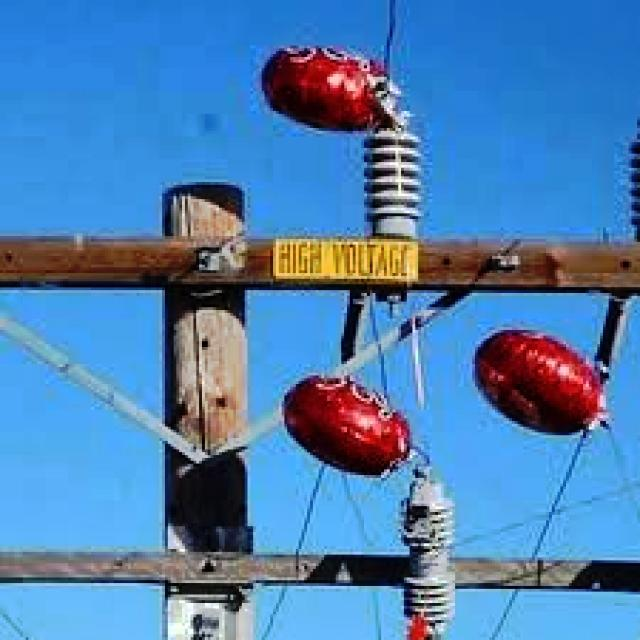obstruction: (472, 330, 609, 438), (282, 375, 410, 481), (262, 48, 398, 128)
poles: (0, 185, 637, 592)
wires: (461, 435, 640, 555), (288, 462, 391, 548), (375, 0, 419, 54), (485, 594, 531, 636), (261, 588, 299, 632), (364, 589, 393, 640), (3, 610, 31, 637)
